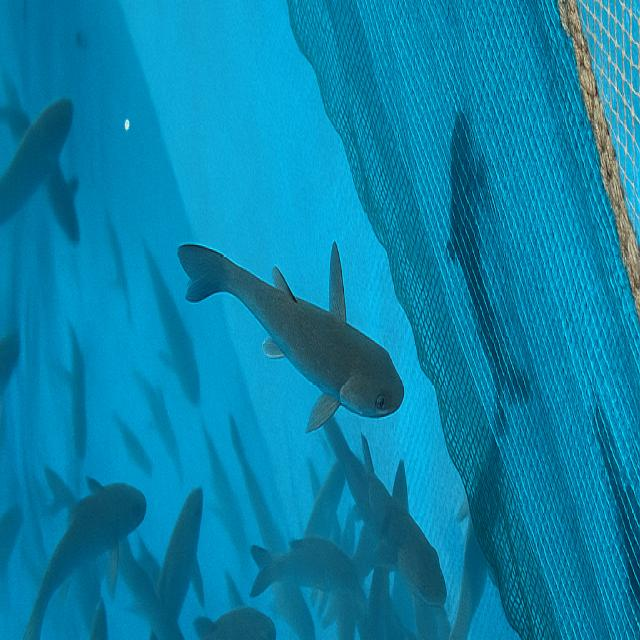ikan: (176, 237, 404, 435), (323, 418, 448, 610), (24, 465, 146, 637), (118, 483, 205, 637), (0, 92, 81, 246), (249, 532, 364, 602)
